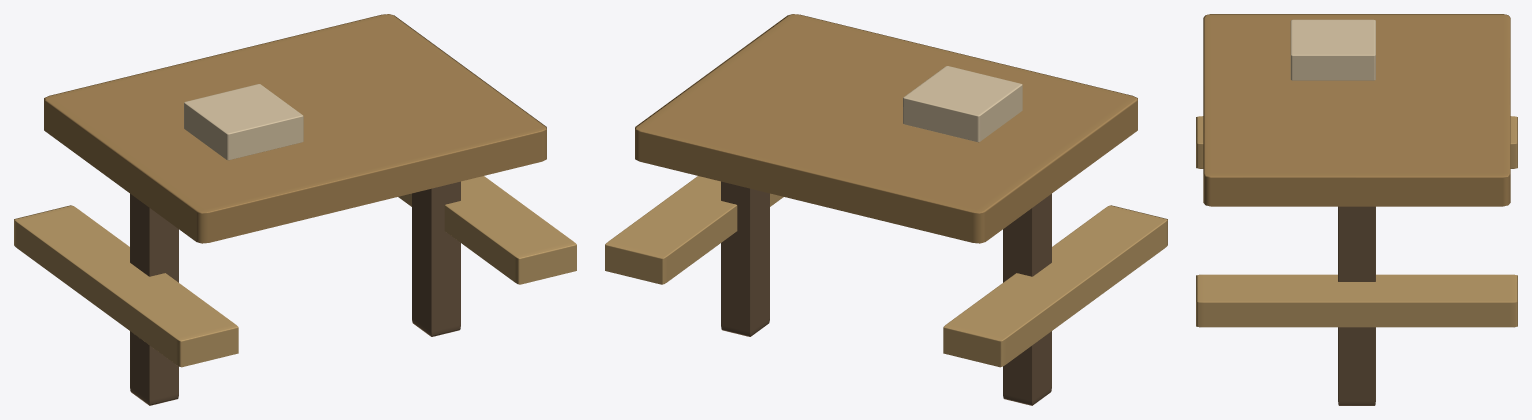
The model's file is picnic-2.glb.
3 views of the same model, side by side, from view 1: azimuth 30°, elevation 25°; view 2: azimuth 150°, elevation 25°; view 3: azimuth 270°, elevation 25° (orthographic). The views are drawn at different scales.
Visible parts, largest first — view 1: picnic-2-0; view 2: picnic-2-0; view 3: picnic-2-0.
Part boxes in pixels (<box>): picnic-2-0: <box>14,14,576,405</box>; picnic-2-0: <box>605,14,1167,405</box>; picnic-2-0: <box>1196,14,1517,405</box>.
Bounding box in the file's own units: 0.932 × 0.62 × 0.68.
